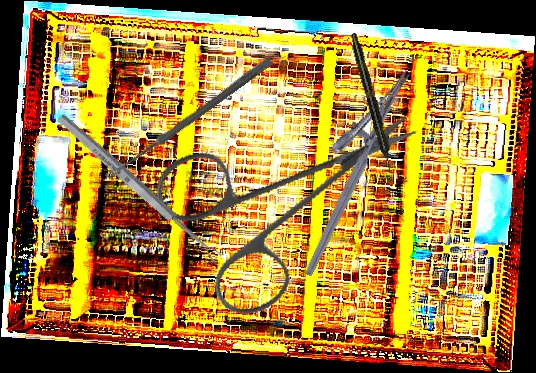Handpiece: (347, 31, 397, 175)
Iris Scissors: (130, 59, 421, 346)
Needle Holder: (276, 55, 413, 278)
Surgical Spoon: (55, 111, 223, 265), (104, 55, 274, 183)
